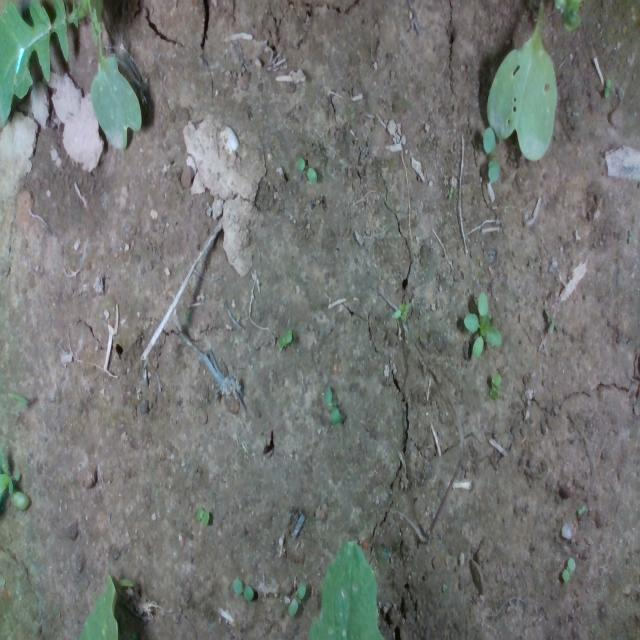weed: (288, 580, 306, 618), (294, 156, 318, 184), (232, 577, 254, 600), (560, 555, 575, 583), (489, 371, 501, 401), (603, 75, 611, 98), (576, 502, 586, 518)
